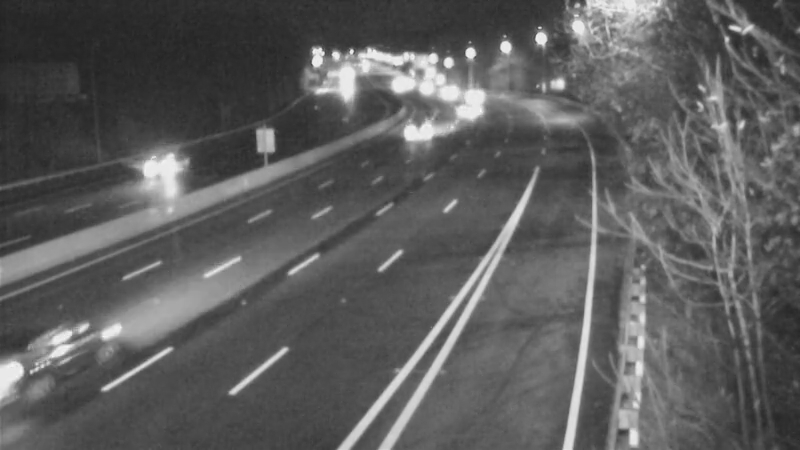vehicle: (6, 292, 116, 402), (115, 129, 195, 209), (399, 65, 449, 115), (424, 65, 474, 115), (447, 71, 497, 121), (442, 84, 492, 134), (395, 100, 445, 150)
